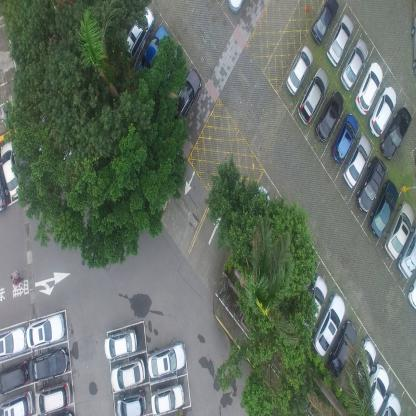car: (313, 291, 345, 357), (324, 318, 358, 378), (384, 196, 414, 262), (297, 66, 328, 127), (355, 154, 386, 215), (369, 176, 398, 240), (380, 104, 412, 161), (125, 4, 155, 64), (172, 66, 201, 128), (139, 23, 170, 81), (300, 273, 328, 336), (358, 361, 390, 416), (342, 134, 372, 190), (355, 57, 383, 116), (340, 37, 370, 91), (314, 89, 344, 143), (368, 84, 397, 139), (284, 44, 314, 96), (28, 345, 70, 382), (326, 12, 353, 69), (26, 310, 65, 349), (331, 112, 359, 164), (148, 342, 186, 380), (350, 336, 376, 389), (110, 354, 145, 392), (34, 380, 71, 415), (1, 141, 22, 200), (311, 0, 338, 45), (104, 326, 138, 360), (150, 383, 185, 415), (0, 357, 28, 395), (0, 323, 28, 359), (397, 229, 415, 282), (0, 388, 34, 415), (116, 389, 147, 415), (374, 394, 403, 416), (0, 165, 9, 213), (406, 279, 416, 310)
